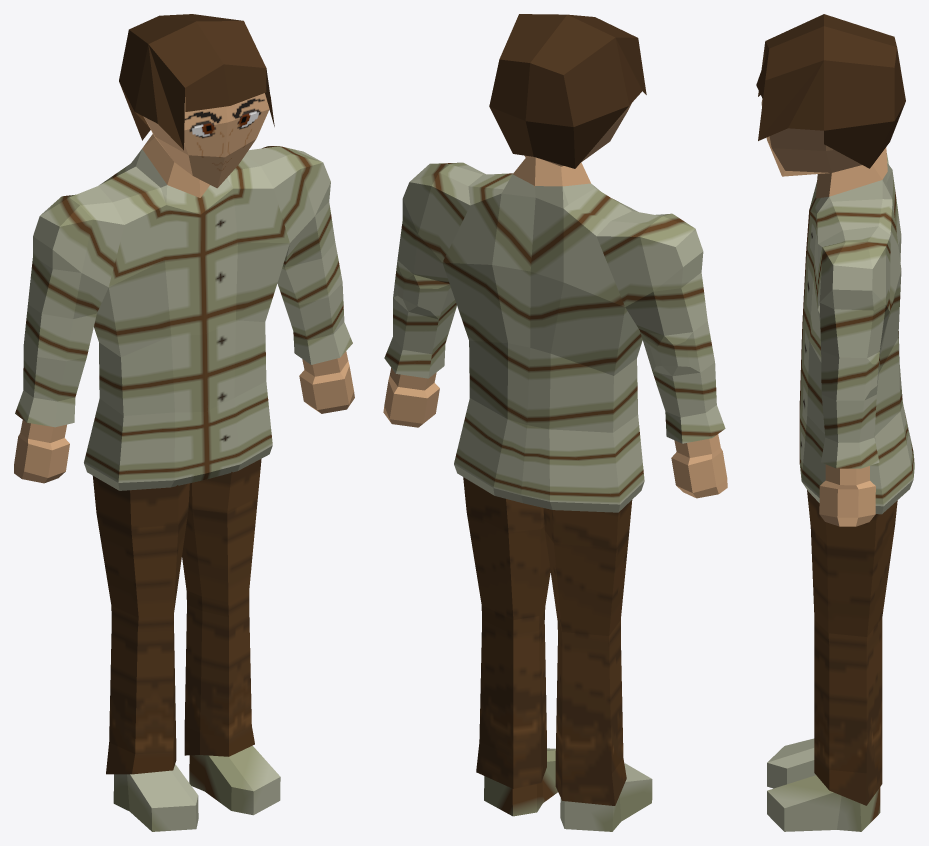
File: Villager3.fbx
3 renders of one model, left to right at view 1: azimuth 30°, elevation 25°; view 2: azimuth 150°, elevation 25°; view 3: azimuth 270°, elevation 25°, orthographic.
Parts seen in each view (by area): view 1: Humane; view 2: Humane; view 3: Humane.
Boxes of the visible parts, box(x1,y1,x2,y2) form: Humane: box(14, 14, 354, 831); Humane: box(383, 14, 727, 831); Humane: box(756, 14, 914, 831).
Bounding box in the file's own units: 73.29 × 164 × 30.43.
1 material, 1 textured.
